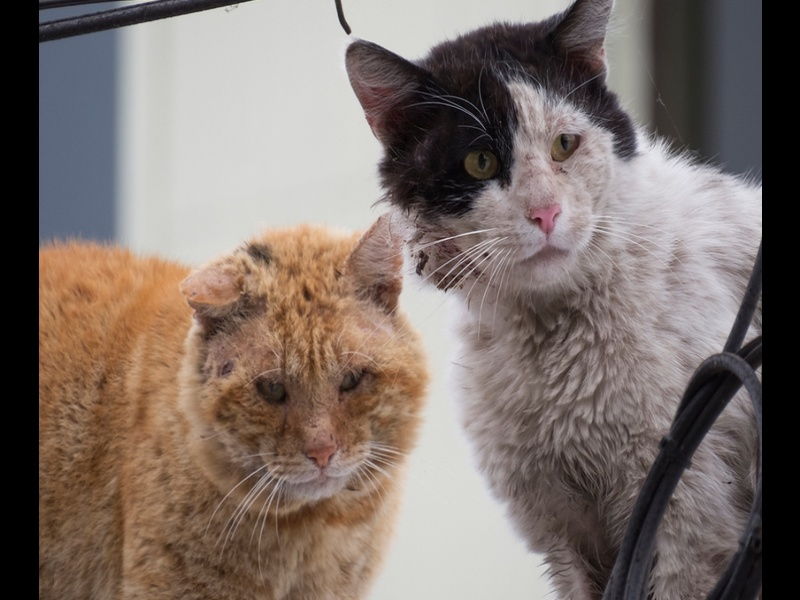cat: (341, 8, 764, 598), (40, 212, 426, 600)
